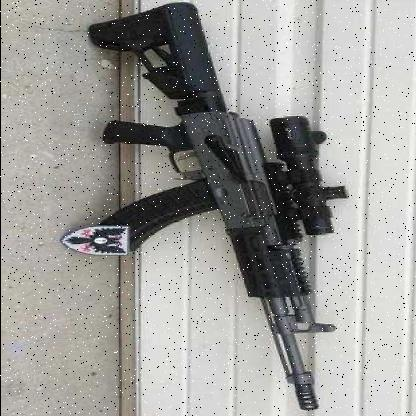rifle: (48, 0, 350, 415)
